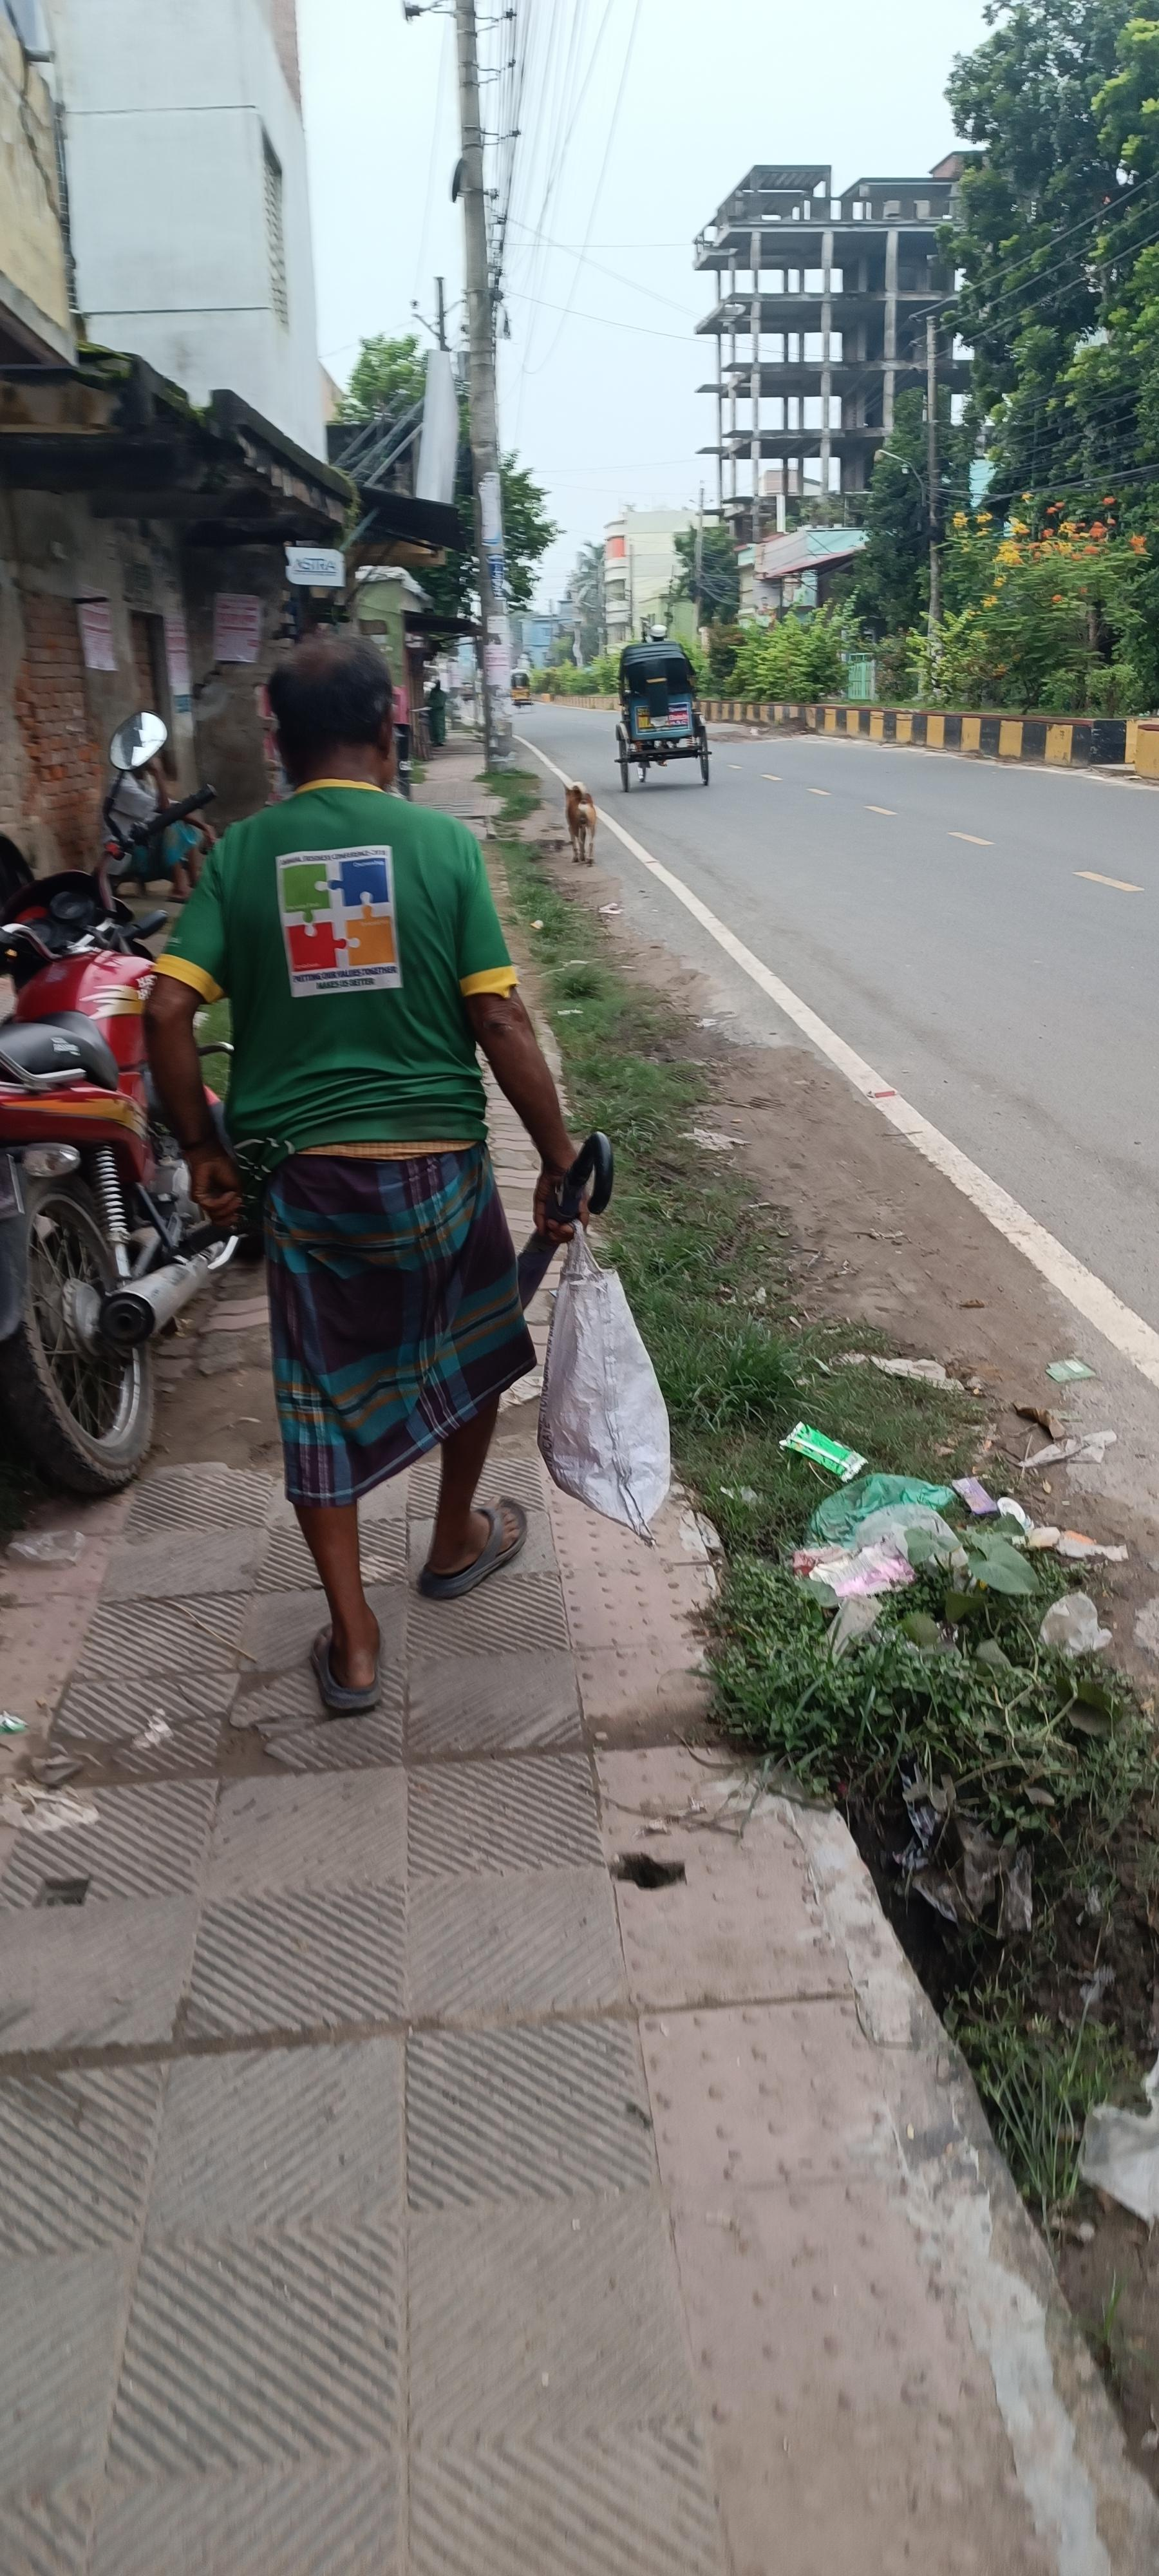Crosswalk: (565, 782, 598, 866)
Fallen-tree: (0, 876, 218, 1630)
Garbage-bin: (143, 631, 584, 1713)
Light-pole: (451, 110, 553, 823)
Pothole: (3, 708, 865, 2569)
